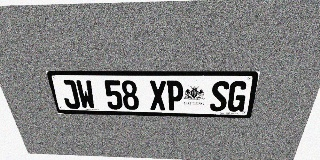5: (104, 80, 123, 110)
8: (120, 80, 139, 110)
G: (226, 81, 249, 112)
J: (59, 80, 81, 109)
P: (166, 81, 184, 111)
S: (209, 81, 230, 112)
W: (75, 80, 96, 109)
X: (149, 80, 166, 110)
